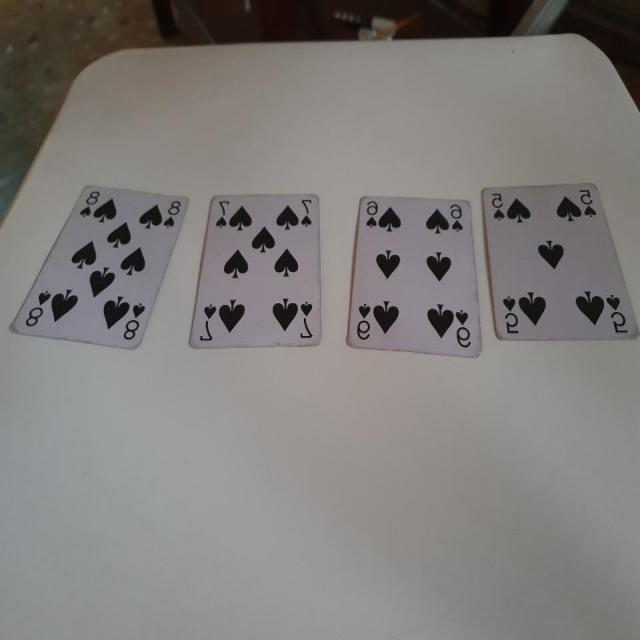5 of spades: (473, 178, 634, 360)
6 of spades: (346, 191, 486, 358)
7 of spades: (186, 181, 326, 359)
8 of spades: (4, 172, 200, 368)
